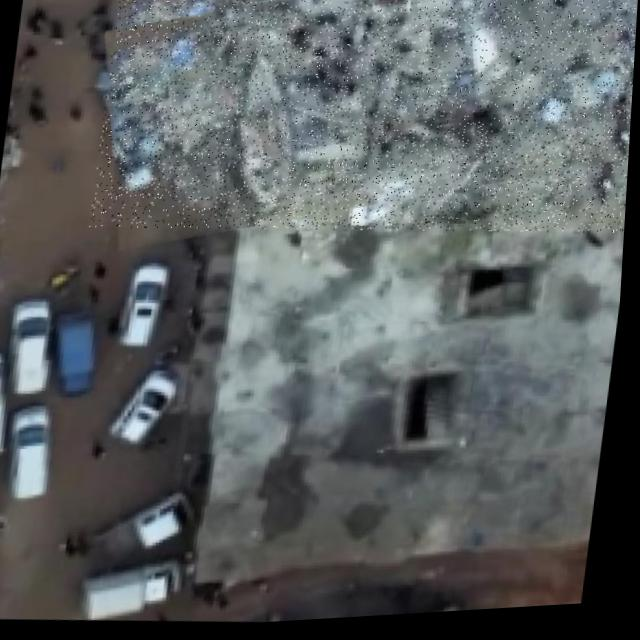Rubble: (88, 0, 640, 265)
